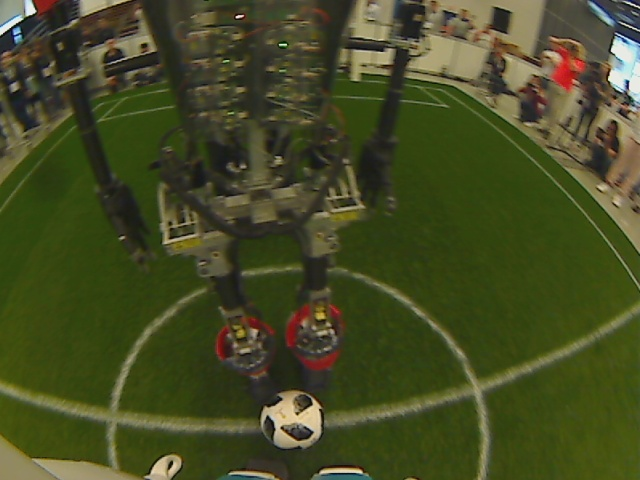ball: (258, 389, 327, 453)
